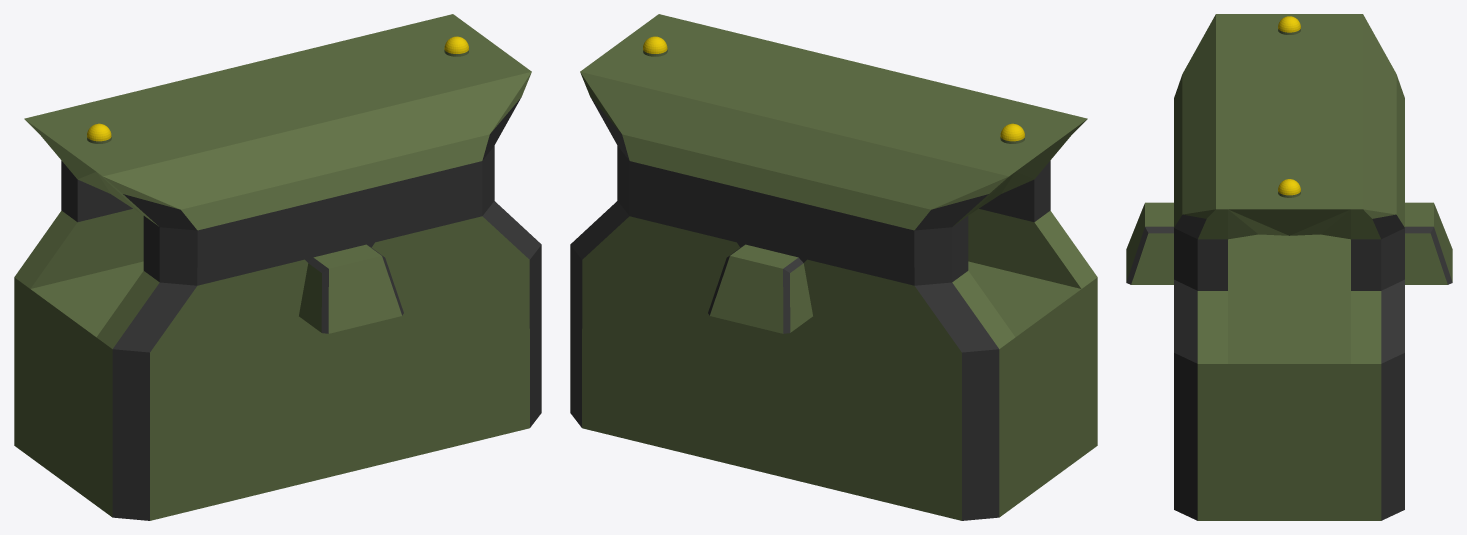
File: Log Canter.fbx
3 views of the same model, side by side, from view 1: azimuth 30°, elevation 25°; view 2: azimuth 150°, elevation 25°; view 3: azimuth 270°, elevation 25° (orthographic). The views are drawn at different scales.
Visible parts, largest first — view 1: Automatic Canter; view 2: Automatic Canter; view 3: Automatic Canter.
Part boxes in pixels (bbox=[...]): Automatic Canter: bbox=[14, 14, 541, 520]; Automatic Canter: bbox=[570, 14, 1097, 520]; Automatic Canter: bbox=[1126, 14, 1452, 520].
Size of the model in its own units: 244 by 189 by 172.
